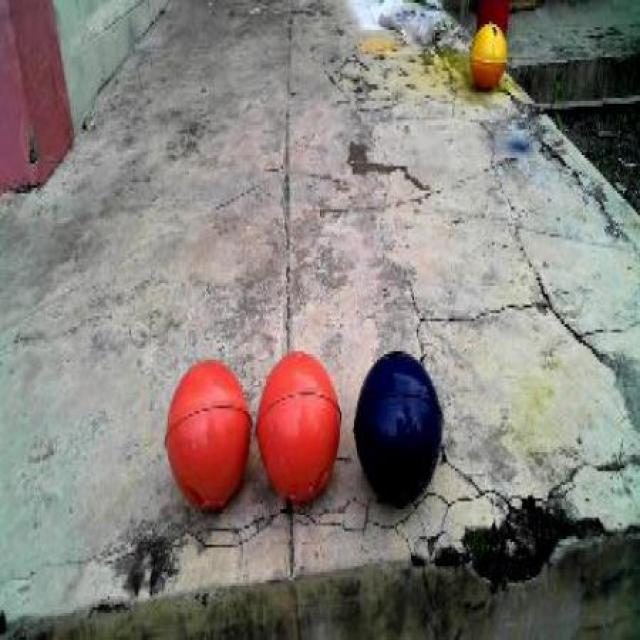buoy: (347, 321, 452, 527), (152, 336, 258, 516), (252, 329, 348, 513)
